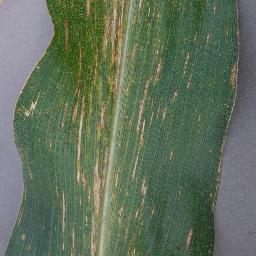Gray_Leaf_Spot: (74, 0, 149, 256), (148, 0, 182, 105), (53, 185, 85, 256), (210, 143, 229, 223), (47, 0, 73, 54), (224, 57, 248, 106), (183, 224, 216, 256), (18, 151, 39, 199), (13, 90, 41, 119), (229, 3, 242, 62), (54, 99, 75, 135), (182, 48, 194, 93), (192, 30, 215, 50), (150, 105, 175, 119), (202, 0, 222, 15), (175, 186, 189, 206), (145, 202, 158, 222), (12, 232, 30, 245), (8, 214, 26, 226), (45, 139, 57, 155), (164, 149, 176, 164)
